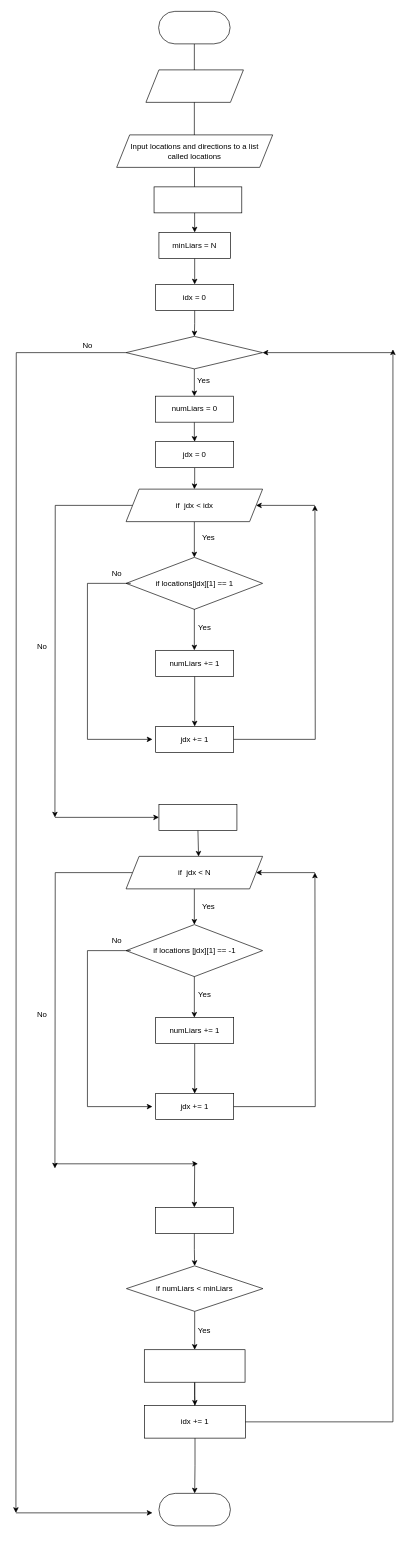
Image size: 410x1550. Some labels were removed from this diagram. Here are the shapes that lost their labels. From the top down, the centre of each, then its label:
the point at 194,27: Start
the point at 194,85: Input N
the point at 197,199: sort the locations list
the point at 194,352: if idx < N
the point at 197,817: jdx = idx + 1
the point at 194,1220: result = minLiars
the point at 194,1365: result = numLiars
the point at 194,1509: Stop
